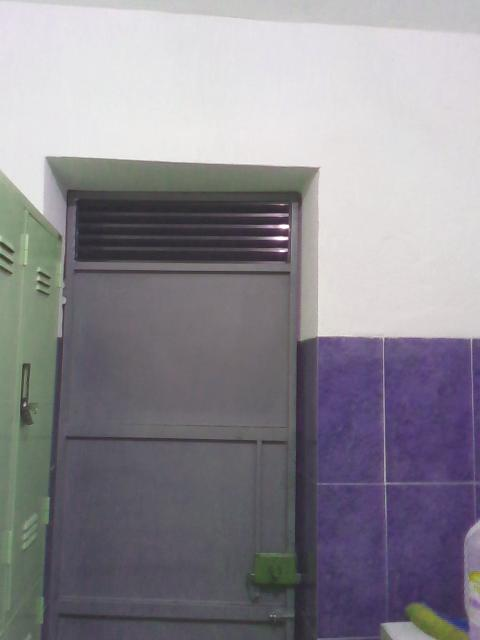closed_door: (41, 189, 301, 638)
